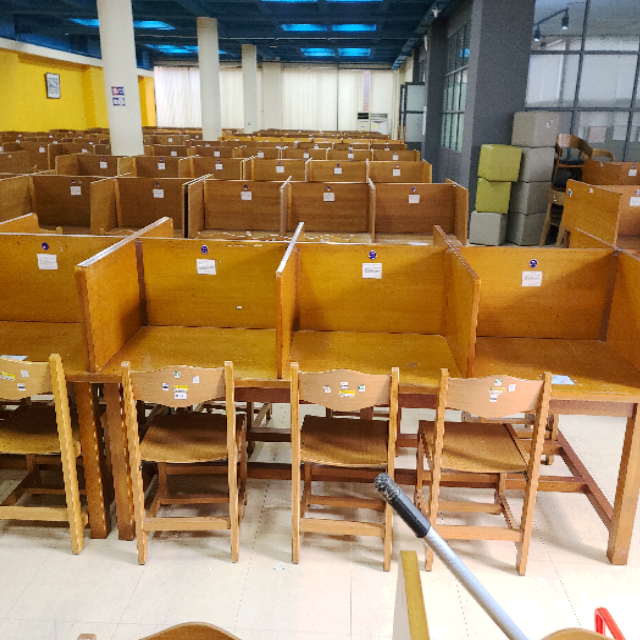empty: (472, 230, 634, 463), (289, 235, 456, 457), (106, 234, 270, 448)
